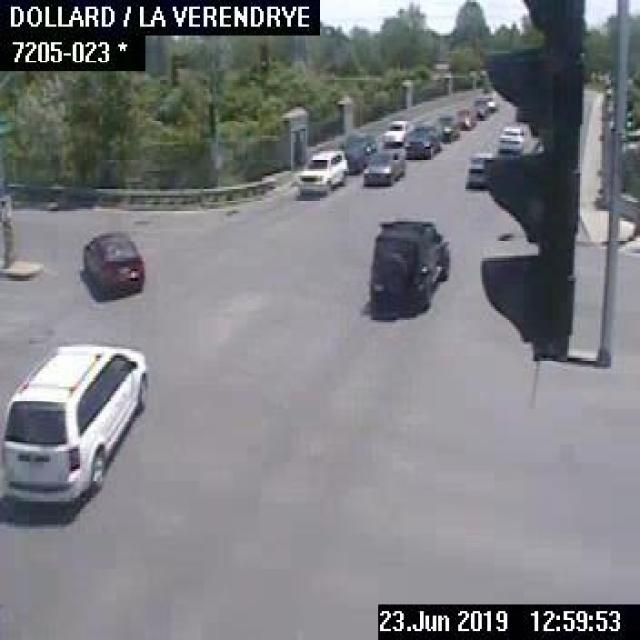vehicle: (0, 340, 149, 509), (366, 216, 449, 316), (80, 229, 144, 298), (294, 149, 346, 196), (360, 148, 406, 188), (337, 134, 369, 174), (404, 123, 438, 160), (464, 152, 495, 186), (382, 116, 408, 146), (496, 124, 523, 152), (434, 112, 458, 143), (455, 104, 472, 130), (473, 92, 488, 120)
